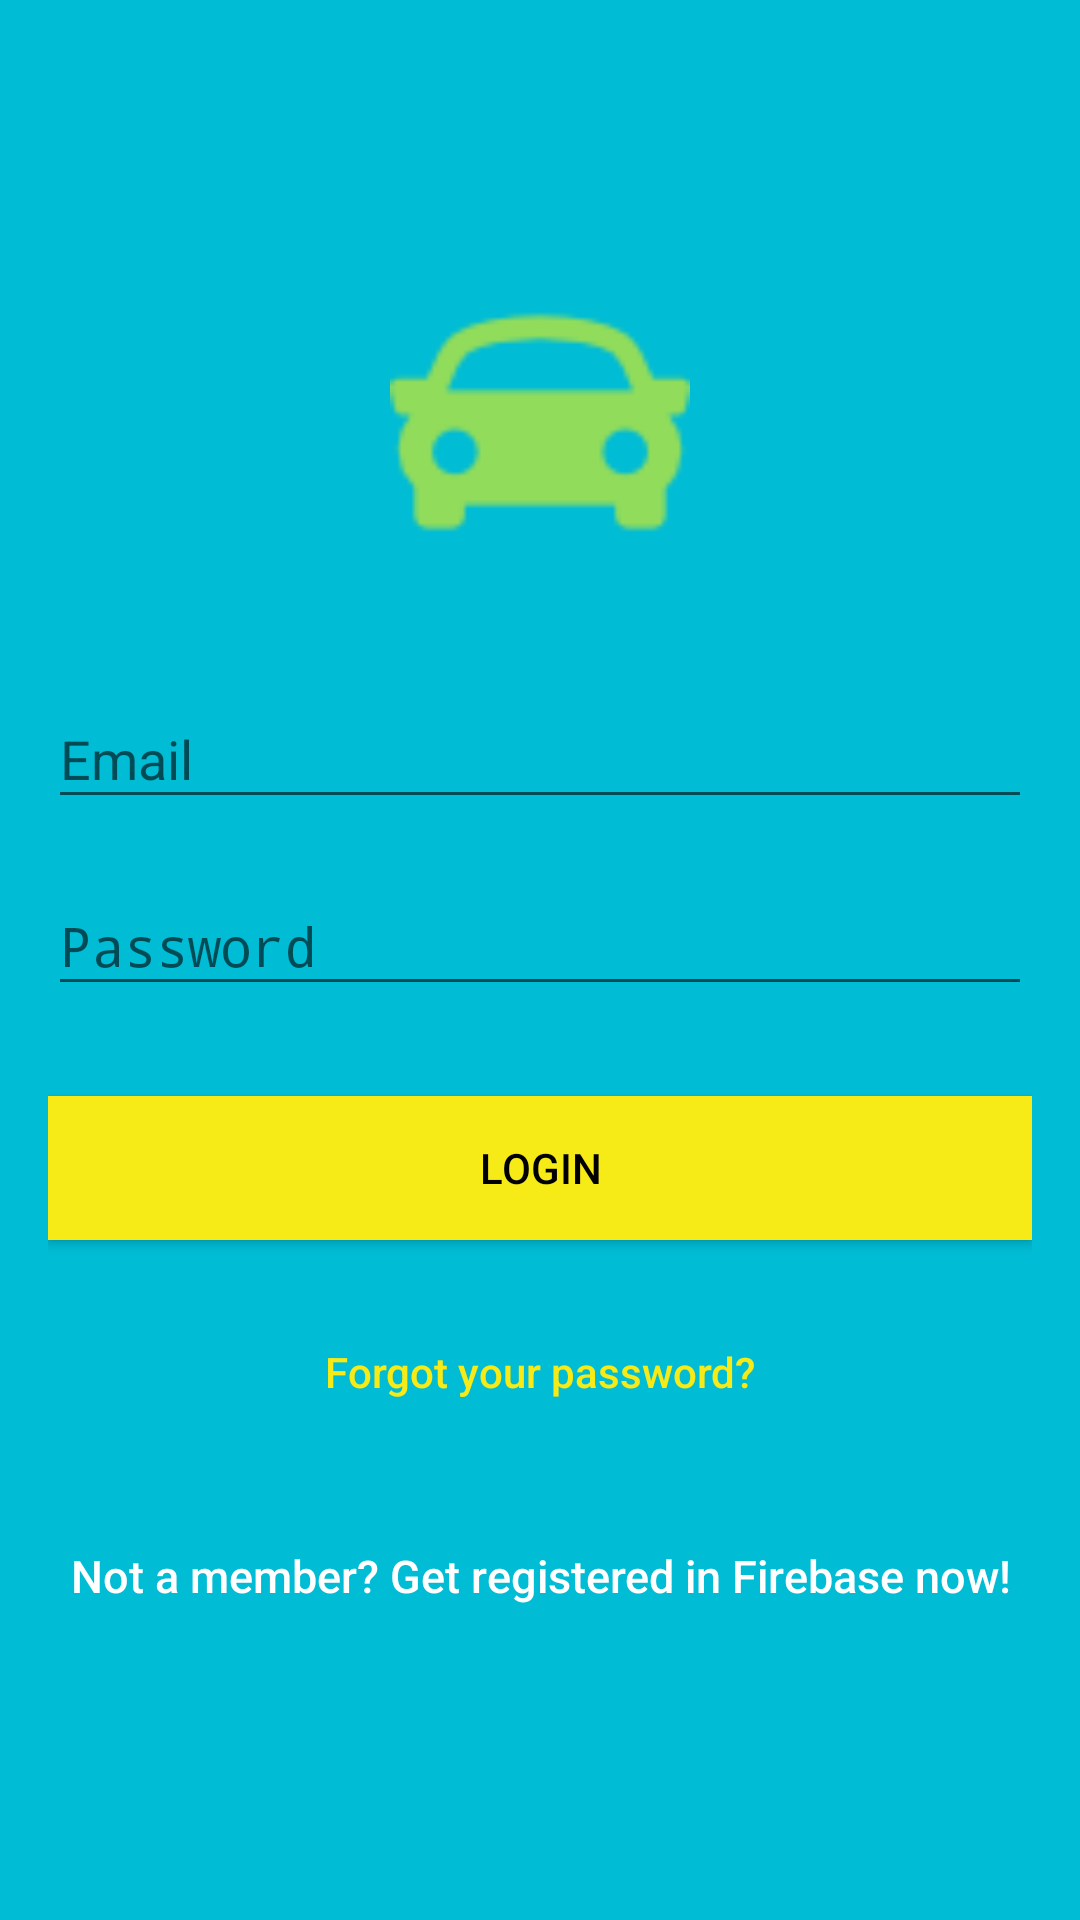

Named icons in this screenshot (1080px×1920px) and their centers, [x,y]:
sports car: [540,422]
